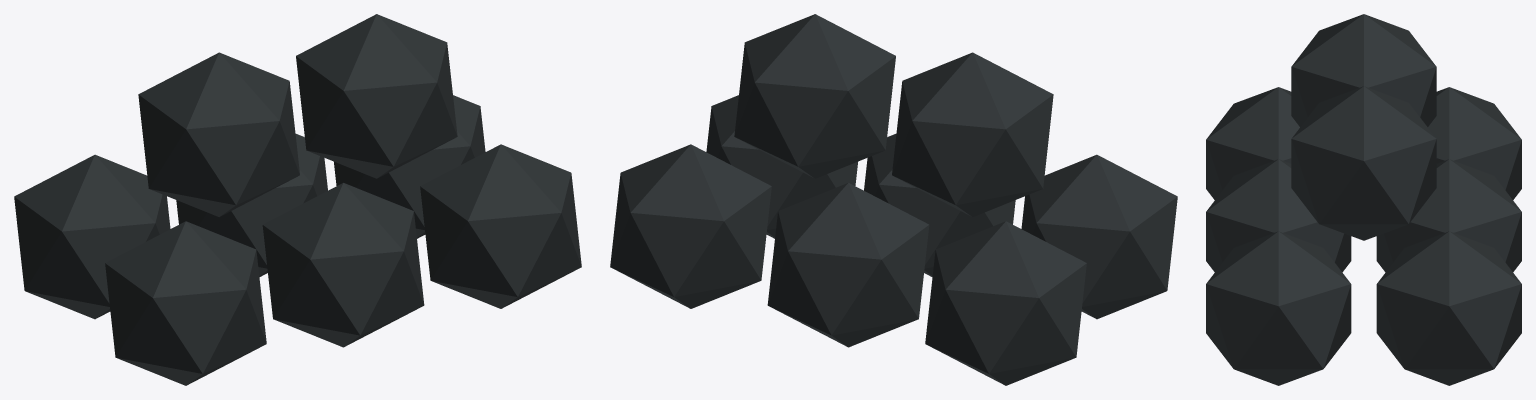
File: Cannonball_Pile.glb
The picture shows the model from 3 angles, left to right: view 1: azimuth 30°, elevation 25°; view 2: azimuth 150°, elevation 25°; view 3: azimuth 270°, elevation 25°; orthographic projection. The views are drawn at different scales.
Parts seen in each view (by area): view 1: Cannonball_Pile; view 2: Cannonball_Pile; view 3: Cannonball_Pile.
Part boxes in pixels (bbox=[...]): Cannonball_Pile: bbox=[14, 14, 581, 385]; Cannonball_Pile: bbox=[610, 14, 1177, 385]; Cannonball_Pile: bbox=[1206, 14, 1521, 385].
Size of the model in its own units: 0.5789 by 0.341 by 0.3701.
Materials: 1 (1 with a texture image).
